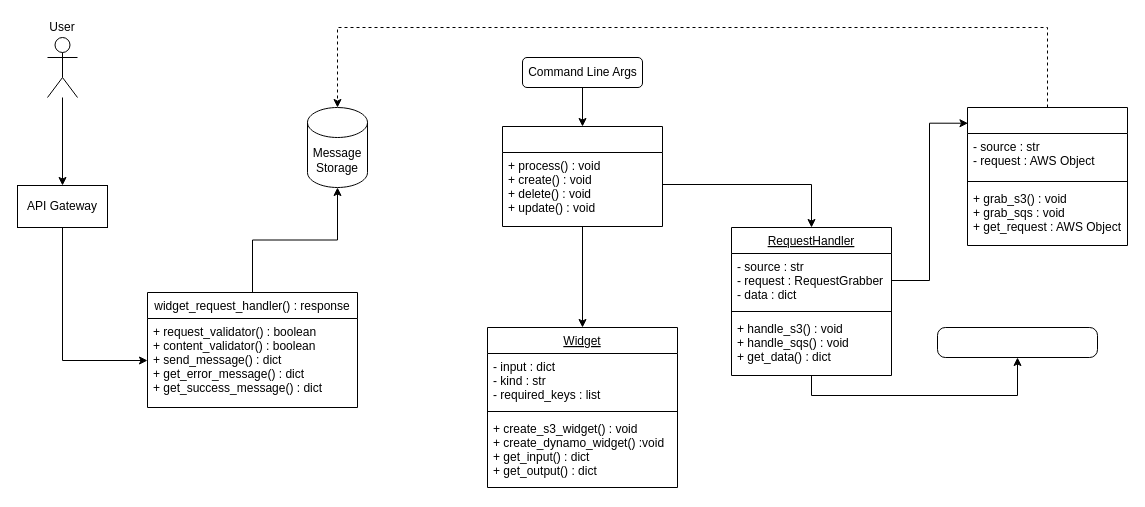
Some shapes in this 1145 by 507 pixel diagram are drawn without their labels. The box of each missing label's shape, as (x1, y1, x2, y2) in pixels:
+ get_request_data() : dict: (936, 326, 1098, 358)
Consumer: (502, 126, 662, 226)
RequestGrabber: (966, 106, 1128, 246)
